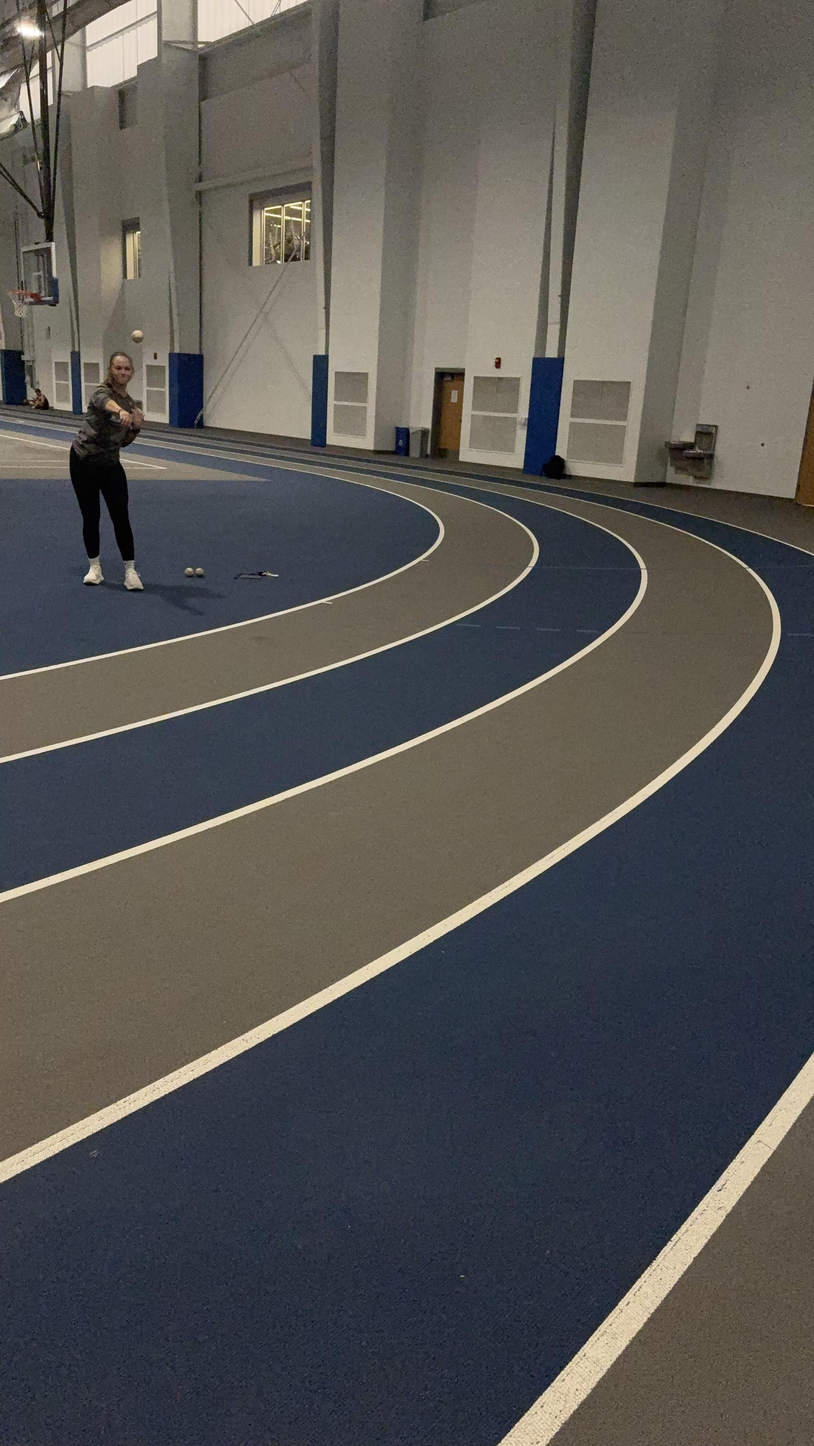Baseball: (129, 329, 145, 344)
